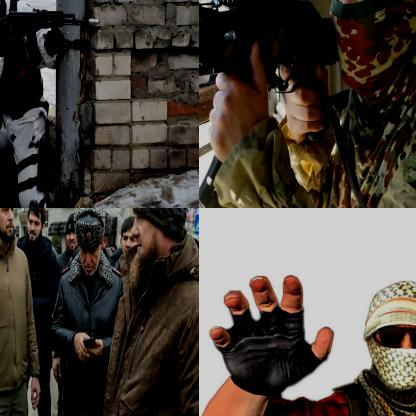rifle: (199, 0, 337, 207), (4, 0, 101, 72)
